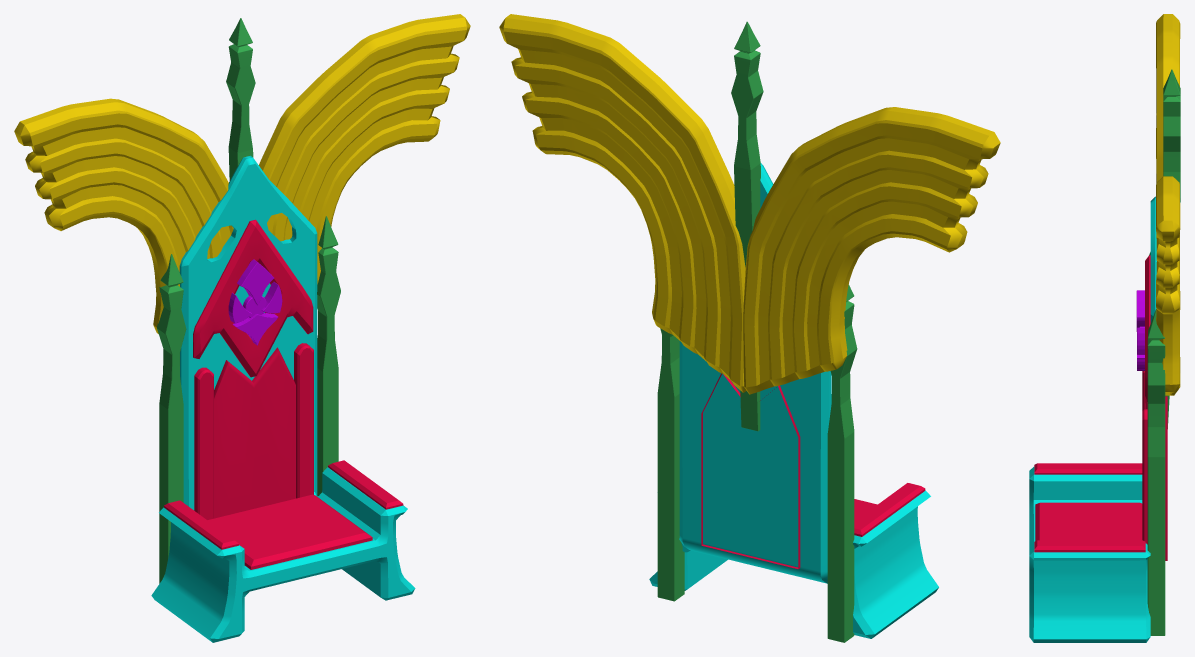
Rendered from Throne.fbx.
3 renders of one model, left to right at view 1: azimuth 30°, elevation 25°; view 2: azimuth 150°, elevation 25°; view 3: azimuth 270°, elevation 25°, orthographic. The views are drawn at different scales.
Visible parts, largest first — view 1: pCube17; view 2: pCube17; view 3: pCube17.
Part boxes in pixels (bbox=[...]): pCube17: bbox=[14, 14, 470, 642]; pCube17: bbox=[499, 14, 1000, 642]; pCube17: bbox=[1029, 14, 1180, 642].
Bounding box in the file's own units: 4.12 × 4.79 × 1.25.
